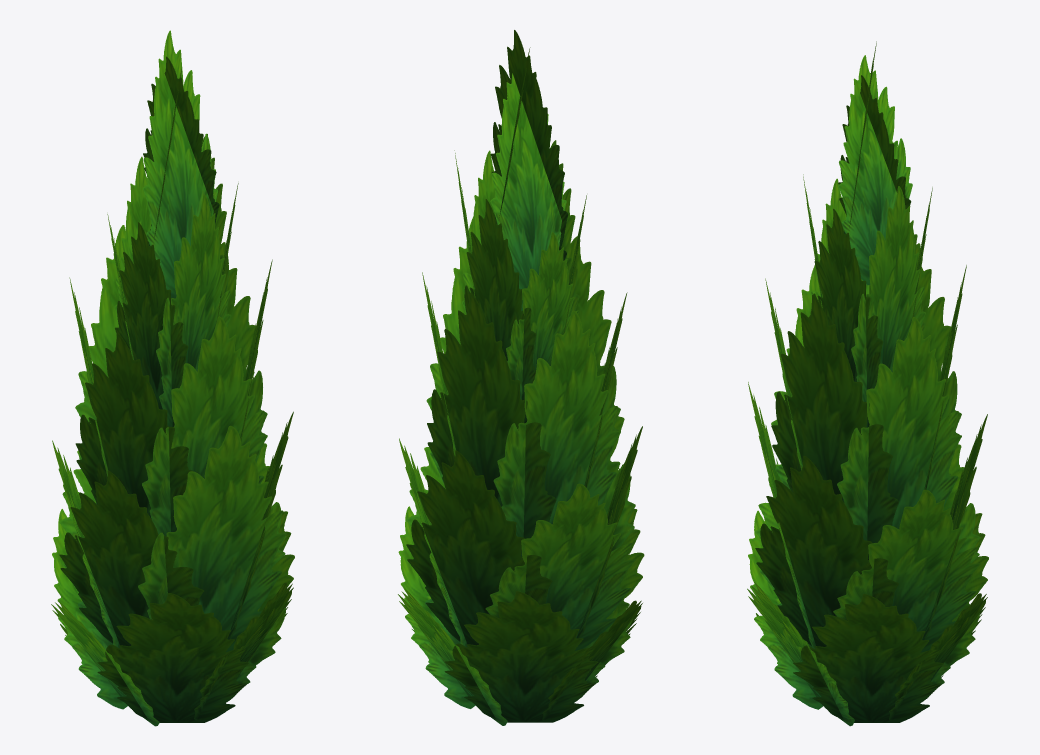
The model's file is shendian_zhiwu2.FBX.
The picture shows the model from 3 angles, left to right: view 1: azimuth 30°, elevation 25°; view 2: azimuth 150°, elevation 25°; view 3: azimuth 270°, elevation 25°; orthographic projection.
Parts seen in each view (by area): view 1: shendian_zhiwu_gaoshu; view 2: shendian_zhiwu_gaoshu; view 3: shendian_zhiwu_gaoshu.
Part boxes in pixels (x1,y1,x2,y2): shendian_zhiwu_gaoshu: [51, 30, 294, 726]; shendian_zhiwu_gaoshu: [398, 30, 644, 725]; shendian_zhiwu_gaoshu: [747, 41, 988, 726].
Size of the model in its own units: 285 by 727 by 309.
